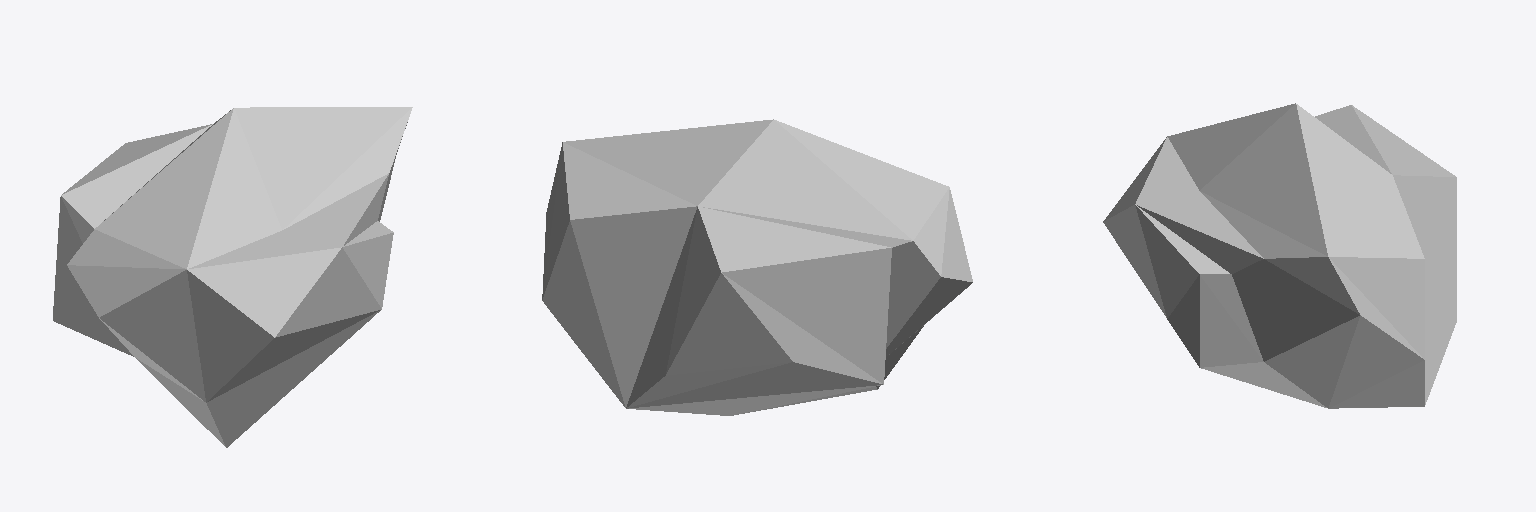
File: asteroid1.obj
The picture shows the model from 3 angles: view 1: azimuth 30°, elevation 25°; view 2: azimuth 150°, elevation 25°; view 3: azimuth 270°, elevation 25°; orthographic projection.
Visible parts, largest first — view 1: Cube; view 2: Cube; view 3: Cube.
Boxes of the visible parts, x1,y1,x2,y2 form: Cube: [53, 107, 412, 447]; Cube: [542, 119, 972, 415]; Cube: [1103, 103, 1456, 408].
Bounding box in the file's own units: 13 × 10 × 11.